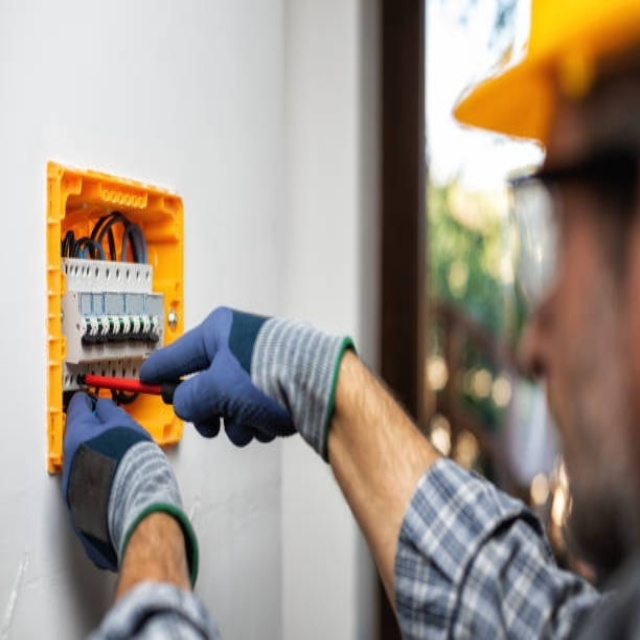Gafas: (507, 155, 633, 325)
Guantes: (60, 386, 193, 585), (139, 305, 317, 447)
